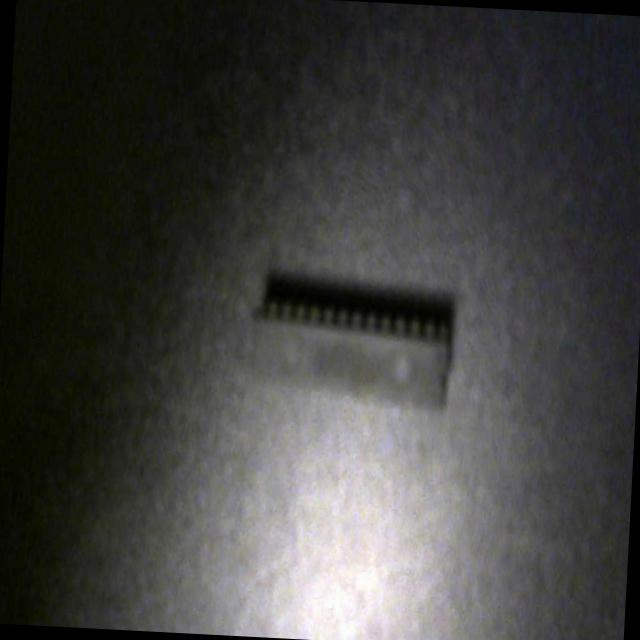atmega: (245, 263, 460, 414)
